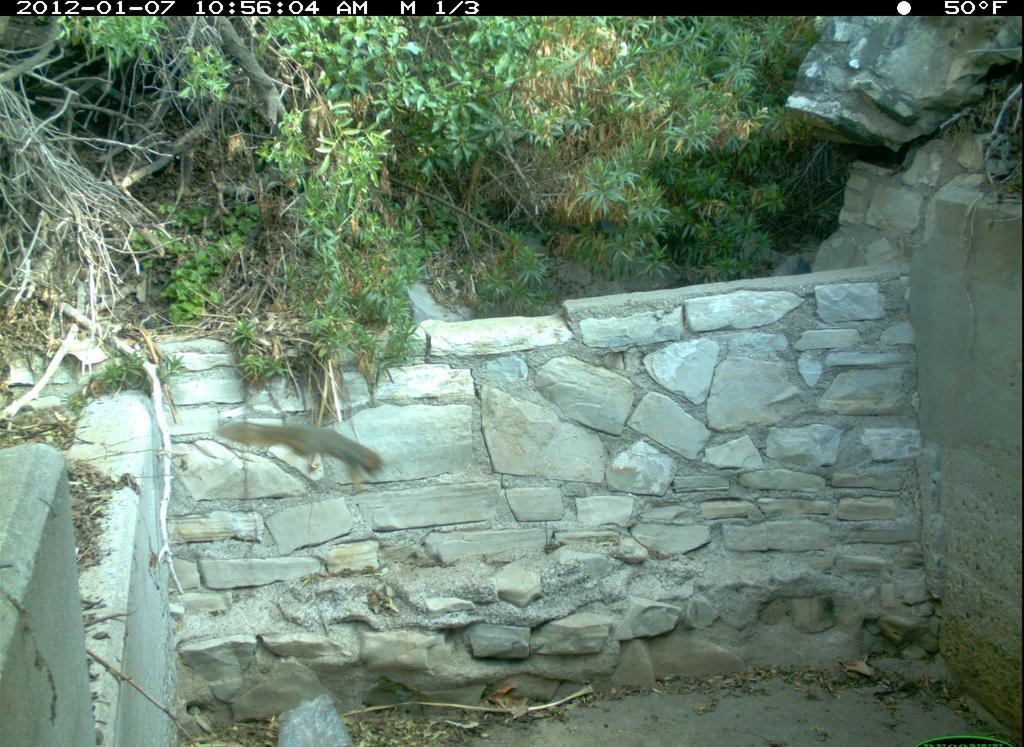squirrel: (204, 404, 417, 493)
